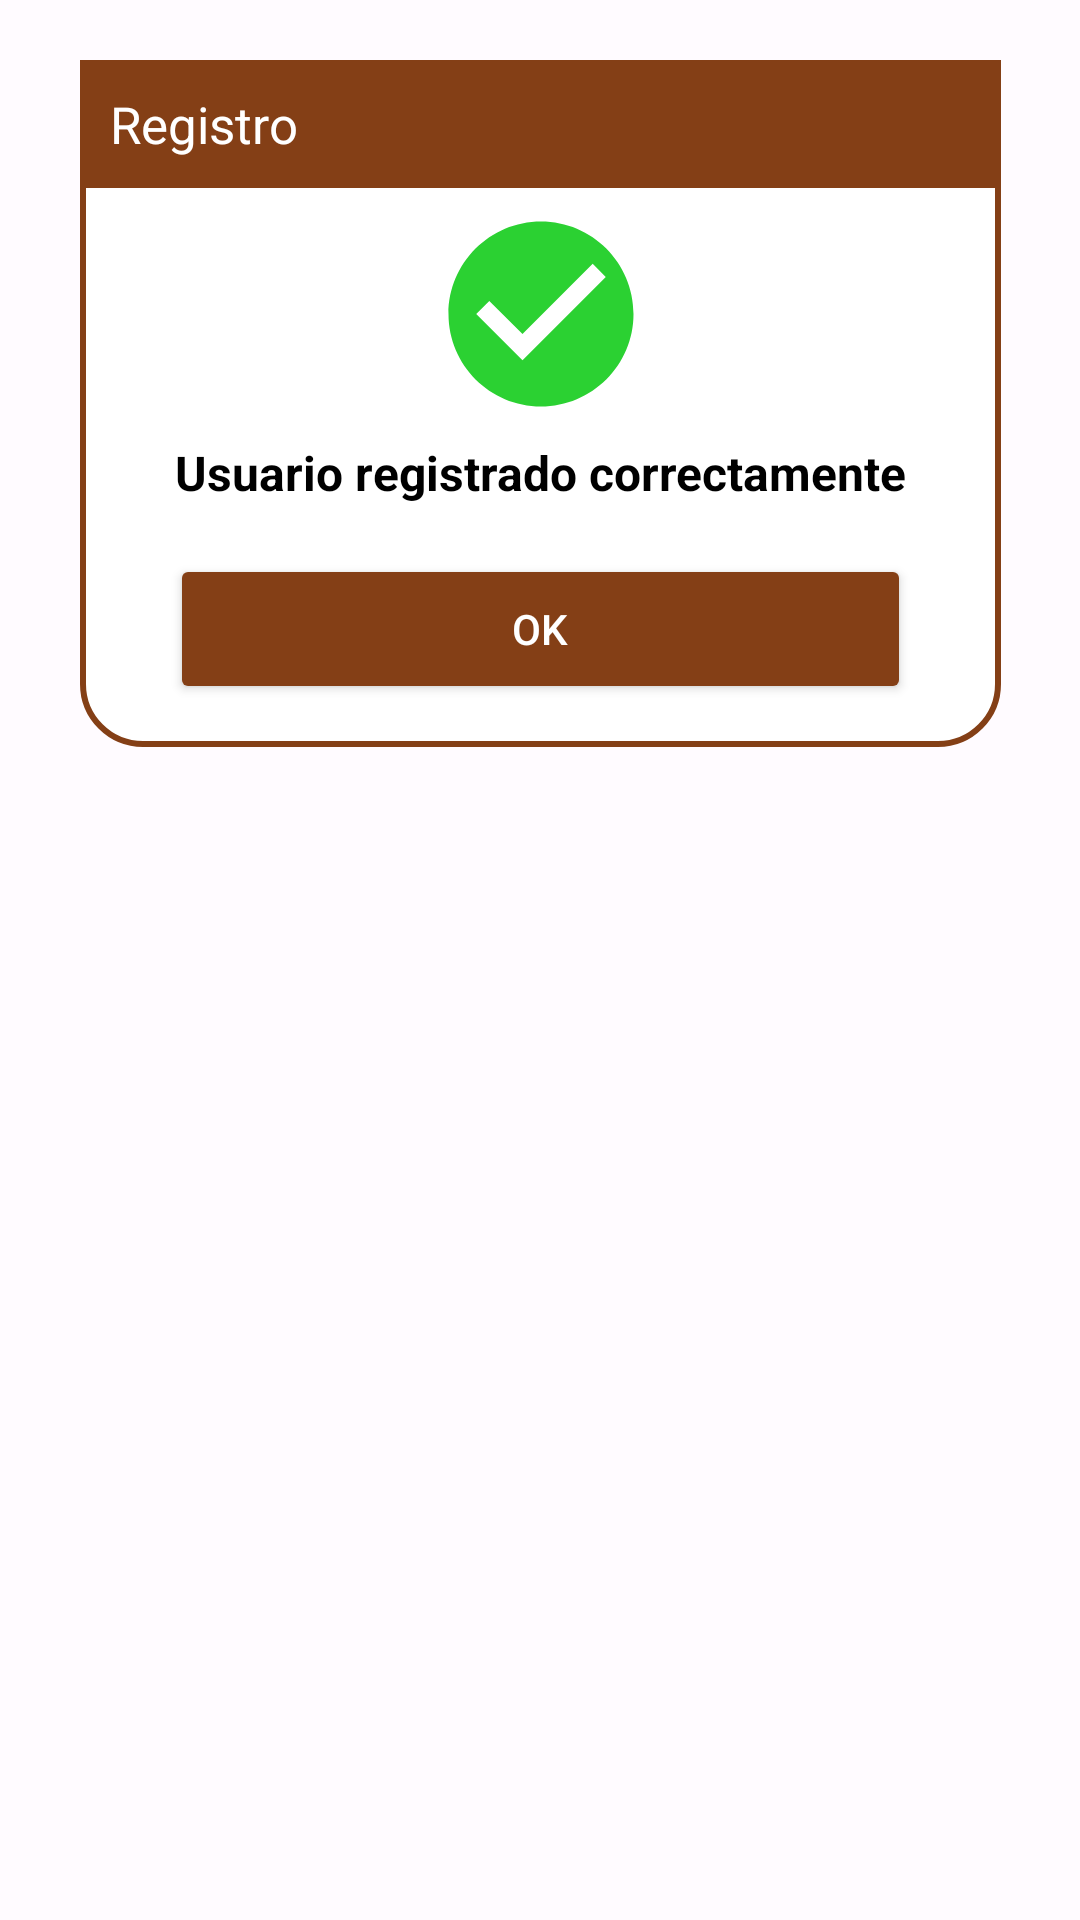

Icons on this 1080*1920 Android screen, each with its box as {"left": x1, "top": y1, "right": x2, "bottom": y2}:
exito: {"left": 448, "top": 221, "right": 634, "bottom": 407}
